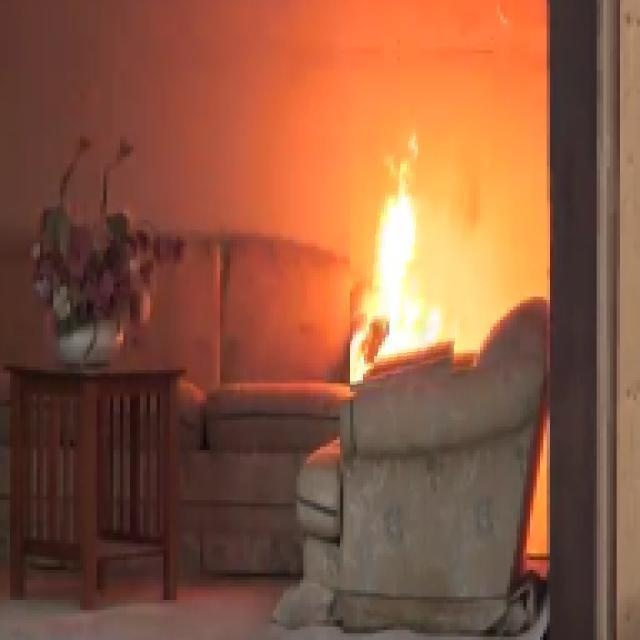fire: (353, 144, 468, 352)
